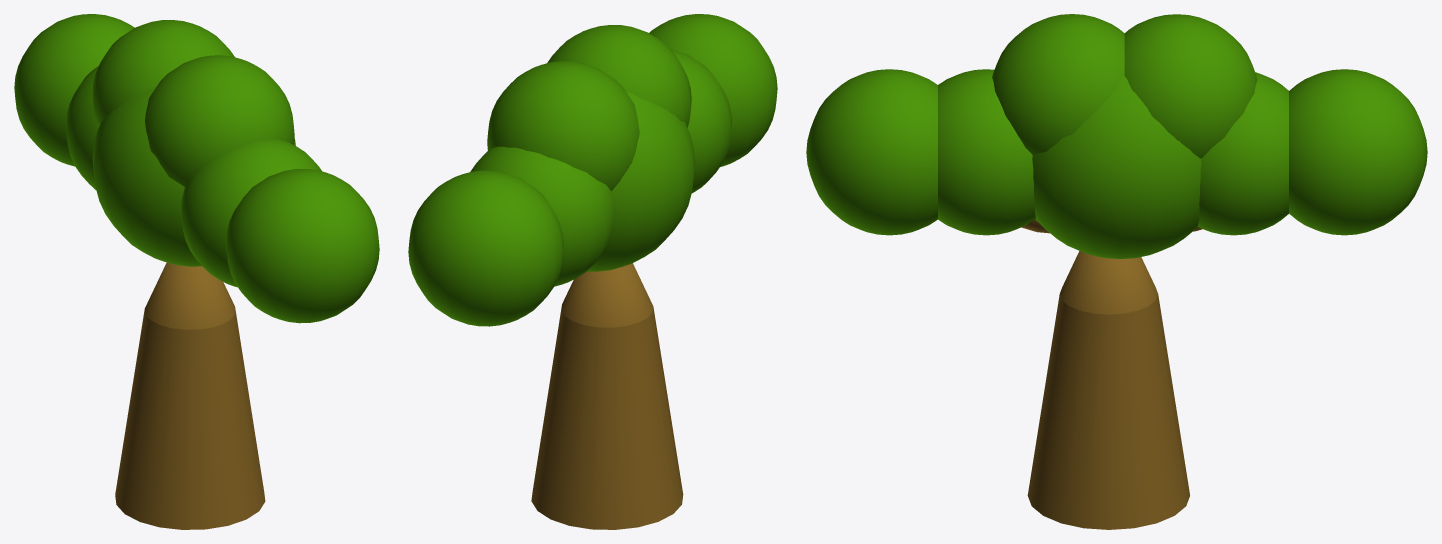
Rendered from simpleTreeB2.fbx.
3 views of the same model, side by side, from view 1: azimuth 30°, elevation 25°; view 2: azimuth 150°, elevation 25°; view 3: azimuth 270°, elevation 25° (orthographic). The views are drawn at different scales.
Parts seen in each view (by area): view 1: pCylinder1, pSphere4, pSphere6, pSphere3, pSphere2, pSphere1, pSphere7, pSphere5; view 2: pCylinder1, pSphere2, pSphere7, pSphere3, pSphere4, pSphere5, pSphere6, pSphere1; view 3: pCylinder1, pSphere3, pSphere2, pSphere4, pSphere7, pSphere6, pSphere1, pSphere5.
Boxes of the visible parts, box(x1,y1,x2,y2) form: pCylinder1: box(115, 262, 265, 529); pSphere4: box(226, 169, 379, 323); pSphere6: box(145, 55, 294, 186); pSphere3: box(92, 86, 295, 266); pSphere2: box(14, 14, 134, 166); pSphere1: box(181, 138, 321, 287); pSphere7: box(92, 20, 234, 127); pSphere5: box(66, 66, 98, 189); pCylinder1: box(531, 263, 683, 529); pSphere2: box(408, 170, 563, 326); pSphere7: box(487, 61, 639, 190); pSphere3: box(587, 92, 694, 271); pSphere4: box(649, 14, 777, 166); pSphere5: box(470, 146, 614, 286); pSphere6: box(547, 25, 691, 127); pSphere1: box(671, 49, 731, 193); pCylinder1: box(1027, 251, 1189, 529); pSphere3: box(1032, 76, 1201, 258); pSphere2: box(1289, 69, 1427, 235); pSphere4: box(806, 69, 937, 235); pSphere7: box(1124, 14, 1257, 158); pSphere6: box(992, 14, 1124, 154); pSphere1: box(938, 69, 1035, 235); pSphere5: box(1197, 72, 1288, 235).
Size of the model in its own units: 9.84 by 23.44 by 27.53.
